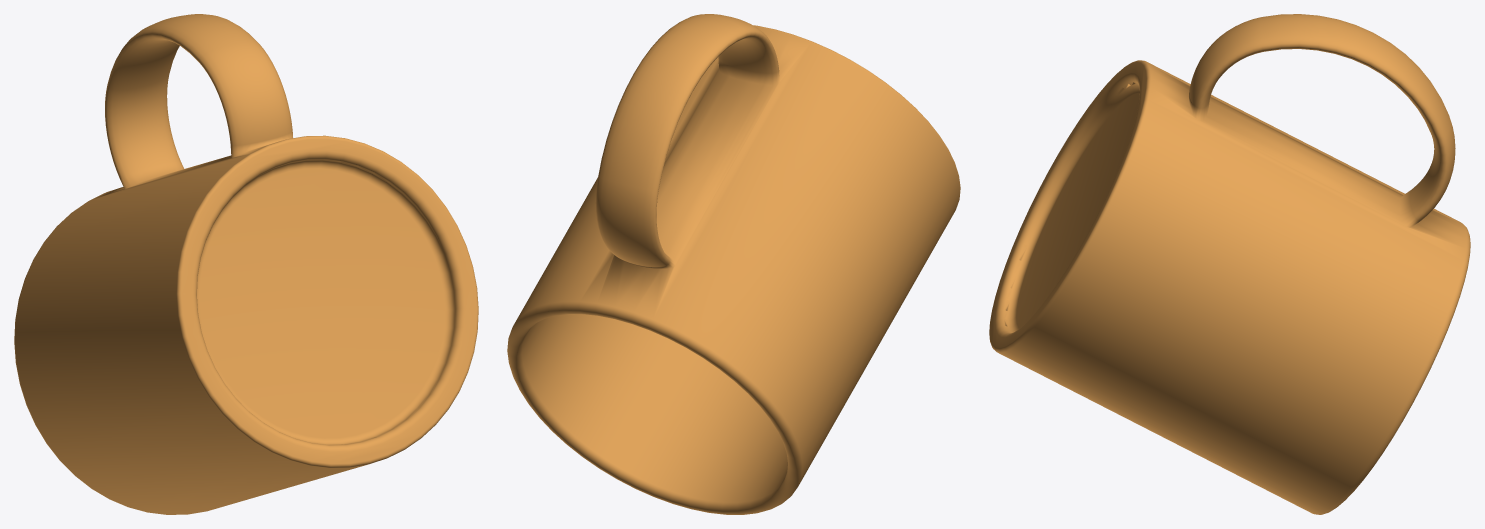
The model's file is mug1_6.dae.
3 views of the same model, side by side, from view 1: azimuth 30°, elevation 25°; view 2: azimuth 150°, elevation 25°; view 3: azimuth 270°, elevation 25° (orthographic). The views are drawn at different scales.
Visible parts, largest first — view 1: mug1_019; view 2: mug1_019; view 3: mug1_019.
Part boxes in pixels (x1,y1,x2,y2): mug1_019: [14, 14, 478, 514]; mug1_019: [507, 14, 960, 514]; mug1_019: [989, 14, 1470, 514].
Size of the model in its own units: 0.1633 by 0.2405 by 0.2623.
